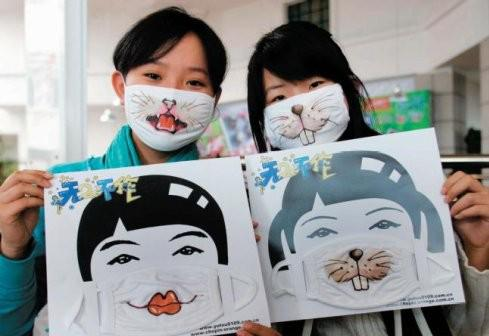OK: (122, 60, 213, 149), (262, 77, 344, 147)
